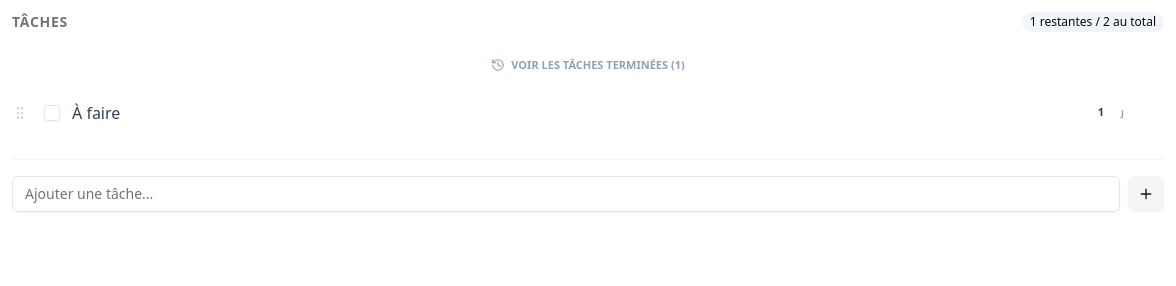
TaskList › should count only non-completed tasks as remaining and show completed toggle
Expected: the text "1 restantes / 2 au total" is shown, [1022, 12, 1164, 32]
Toggle shows them
Click the button "VOIR LES TÂCHES TERMINÉES (1)".
click(588, 65)  # box [12, 48, 1164, 82]
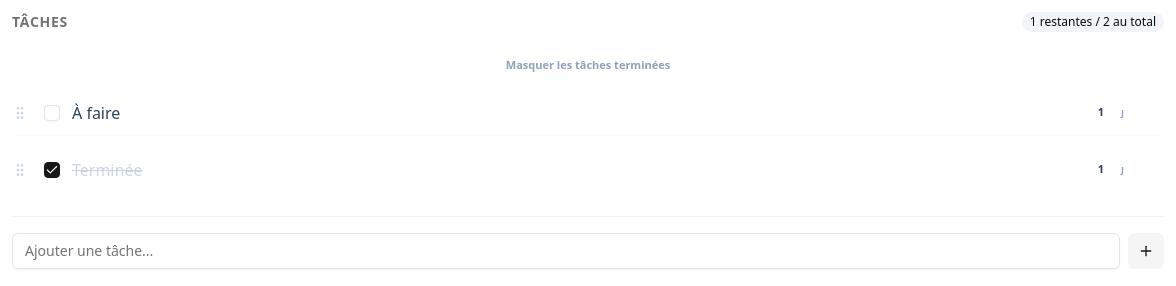
Result: the text "Terminée" is shown at [68, 158, 146, 182]
Result: the button "Masquer les tâches terminées" is shown at [12, 48, 1164, 82]
